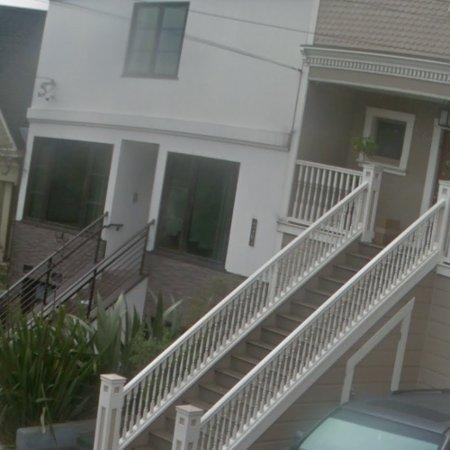stairs: (127, 201, 449, 450)
